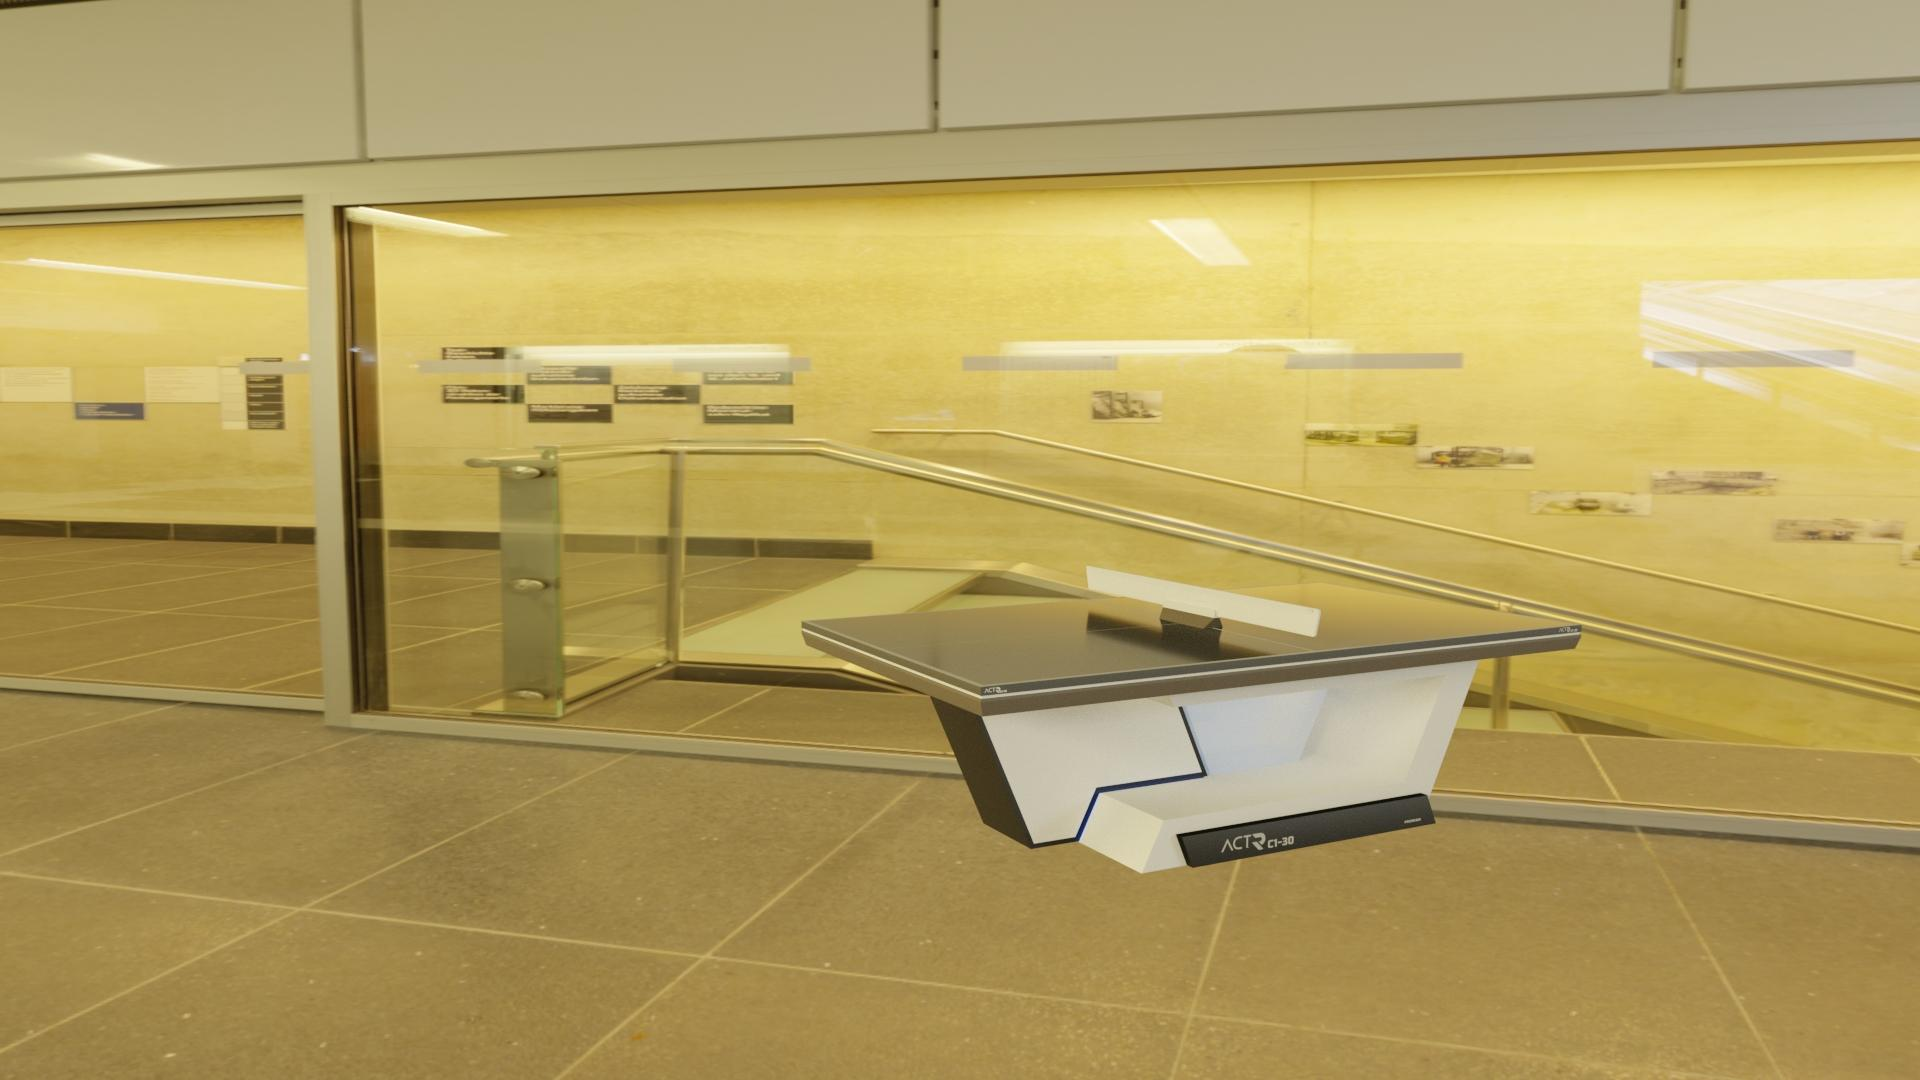table: (807, 583, 1575, 686)
